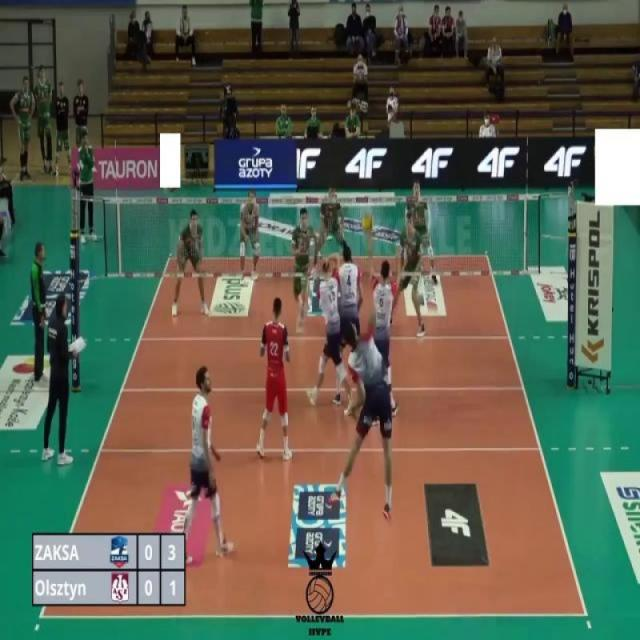volleyball: (362, 211, 374, 234)
